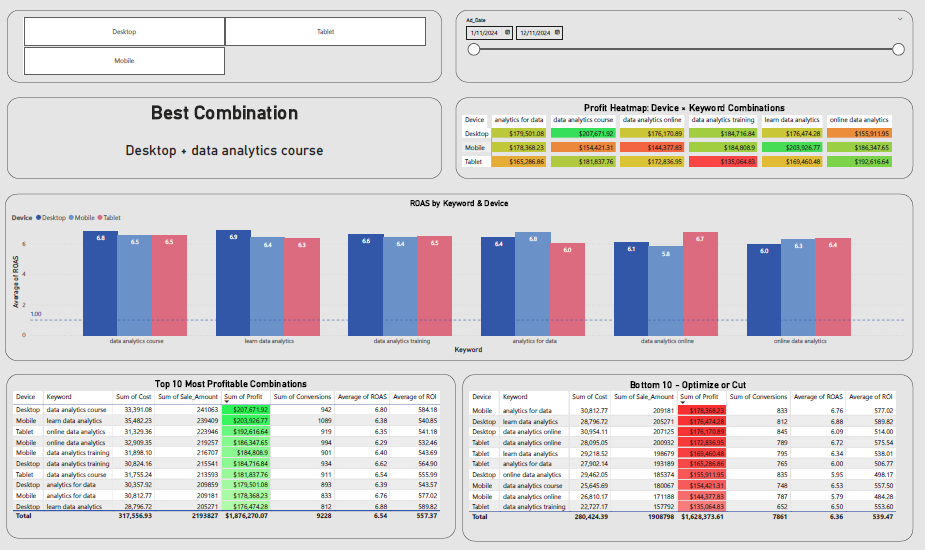

The dashboard page shown, as its layout file describes it:
{"tool":"powerbi","page":{"name":"Page 4 - Device × Keyword Analysis","canvas":[1900,1130],"ordinal":3},"visuals":[{"type":"pivotTable","title":"Profit Heatmap: Device × Keyword Combinations","fields":{"Rows":["device_keyword_combo.Device"],"Values":["Sum(device_keyword_combo.Profit)"],"Columns":["device_keyword_combo.Keyword"]},"box":[936.1,201.1,939.6,166.4],"z":0},{"type":"tableEx","title":" Top 10 Most Profitable Combinations","fields":{"Values":["device_keyword_combo.Device","device_keyword_combo.Keyword","Sum(device_keyword_combo.Cost)","Sum(device_keyword_combo.Sale_Amount)","Sum(device_keyword_combo.Profit)","Sum(device_keyword_combo.Conversions)","Avg(device_keyword_combo.ROAS)","Avg(device_keyword_combo.ROI)"]},"box":[13.1,768.6,923,338.3],"z":1000},{"type":"tableEx","title":"Bottom 10 - Optimize or Cut","fields":{"Values":["device_keyword_combo.Device","device_keyword_combo.Keyword","Sum(device_keyword_combo.Cost)","Sum(device_keyword_combo.Sale_Amount)","Sum(device_keyword_combo.Profit)","Sum(device_keyword_combo.Conversions)","Avg(device_keyword_combo.ROAS)","Avg(device_keyword_combo.ROI)"]},"box":[950,769.7,925.7,343.2],"z":2000},{"type":"clusteredColumnChart","title":"ROAS by Keyword & Device","fields":{"Category":["device_keyword_combo.Keyword"],"Y":["Avg(device_keyword_combo.ROAS)"],"Series":["device_keyword_combo.Device"]},"box":[10.4,398.7,1865.3,343.2],"z":3000},{"type":"card","title":"Best Combination","fields":{"Values":["device_keyword_combo.Best Combo"]},"box":[13.9,201.1,894.5,166.4],"z":4000},{"type":"slicer","fields":{"Values":["device_keyword_combo.Device"]},"box":[13.9,20.8,894.5,149.1],"z":5000},{"type":"slicer","fields":{"Values":["marketing_data_FINAL.Ad_Date"]},"box":[936.1,20.8,939.6,149.1],"z":6000}]}

Visuals, with their boxes in screenshot pixels (x1, y1, x2, y2), scaled from the page's 1900x1130 canvas onto the 925x550 screenshot:
"Profit Heatmap: Device × Keyword Combinations" pivotTable: 456,98,913,179
" Top 10 Most Profitable Combinations" tableEx: 6,374,456,539
"Bottom 10 - Optimize or Cut" tableEx: 462,375,913,542
"ROAS by Keyword & Device" clusteredColumnChart: 5,194,913,361
"Best Combination" card: 7,98,442,179
slicer - device_keyword_combo.Device: 7,10,442,83
slicer - marketing_data_FINAL.Ad_Date: 456,10,913,83
